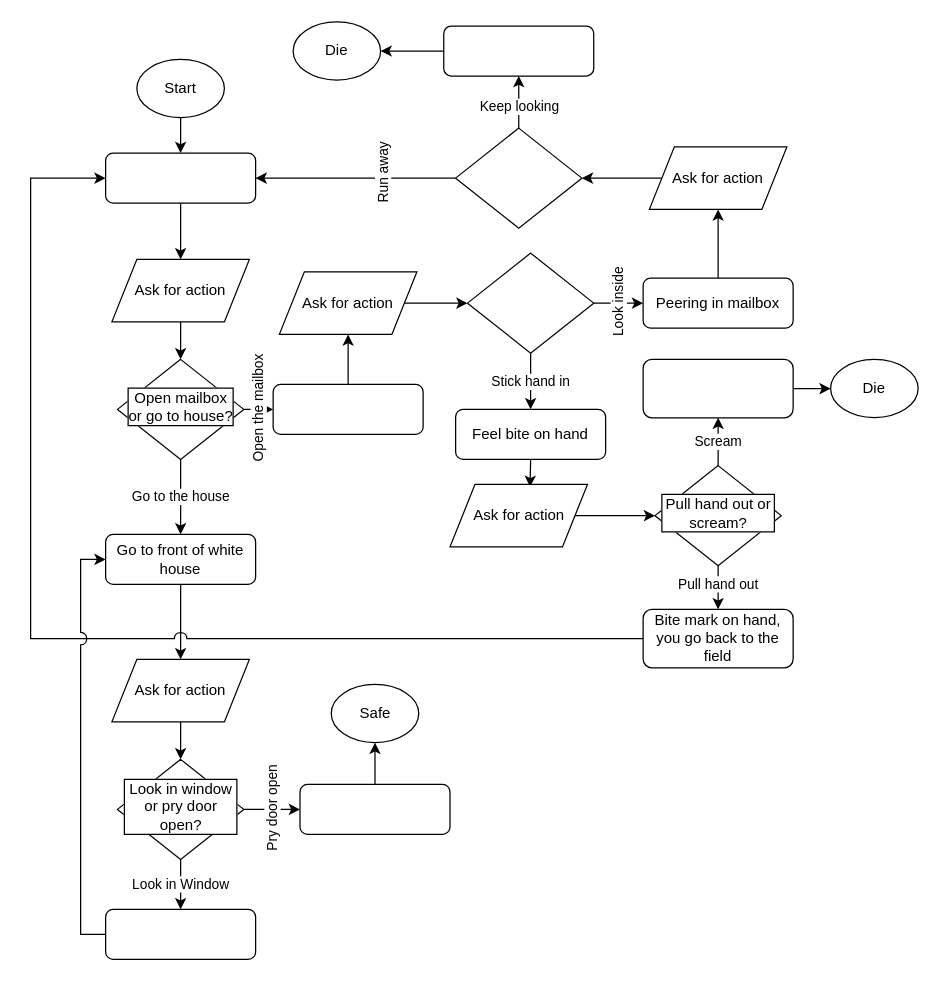
Some shapes in this 940 by 981 pixel diagram are drawn without their labels. Each missing label, with the box of its shape:
Eaten by a grue: (442, 25, 594, 76)
Get in house, you are safe.: (299, 783, 450, 834)
Keep looking or run away?: (454, 127, 582, 228)
Look in window see president of the USA: (104, 908, 256, 959)
Look inside or stick your hand in?: (466, 252, 594, 353)
Mailbox: (272, 383, 423, 434)
Open field: (104, 152, 256, 203)
Pulled into the mailbox and eaten by a grue: (642, 358, 793, 418)
